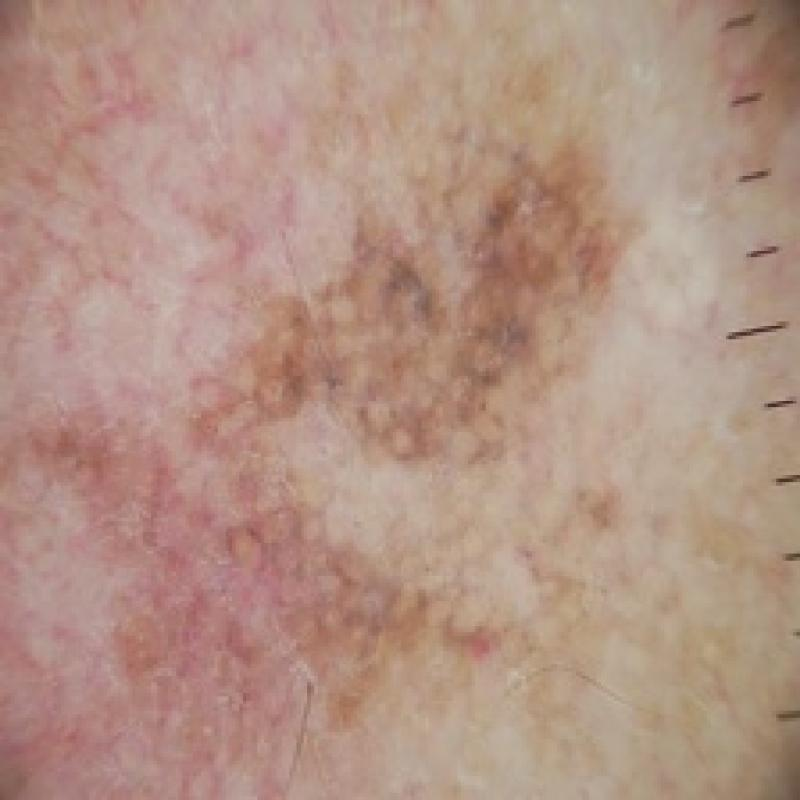malignant: (25, 94, 643, 724)
